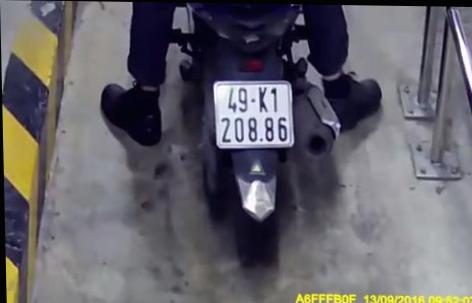License_Plate: (210, 79, 301, 154)
